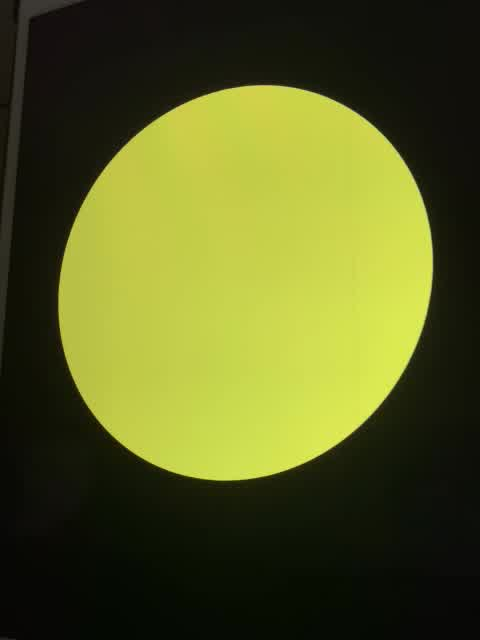left: (51, 83, 442, 484)
